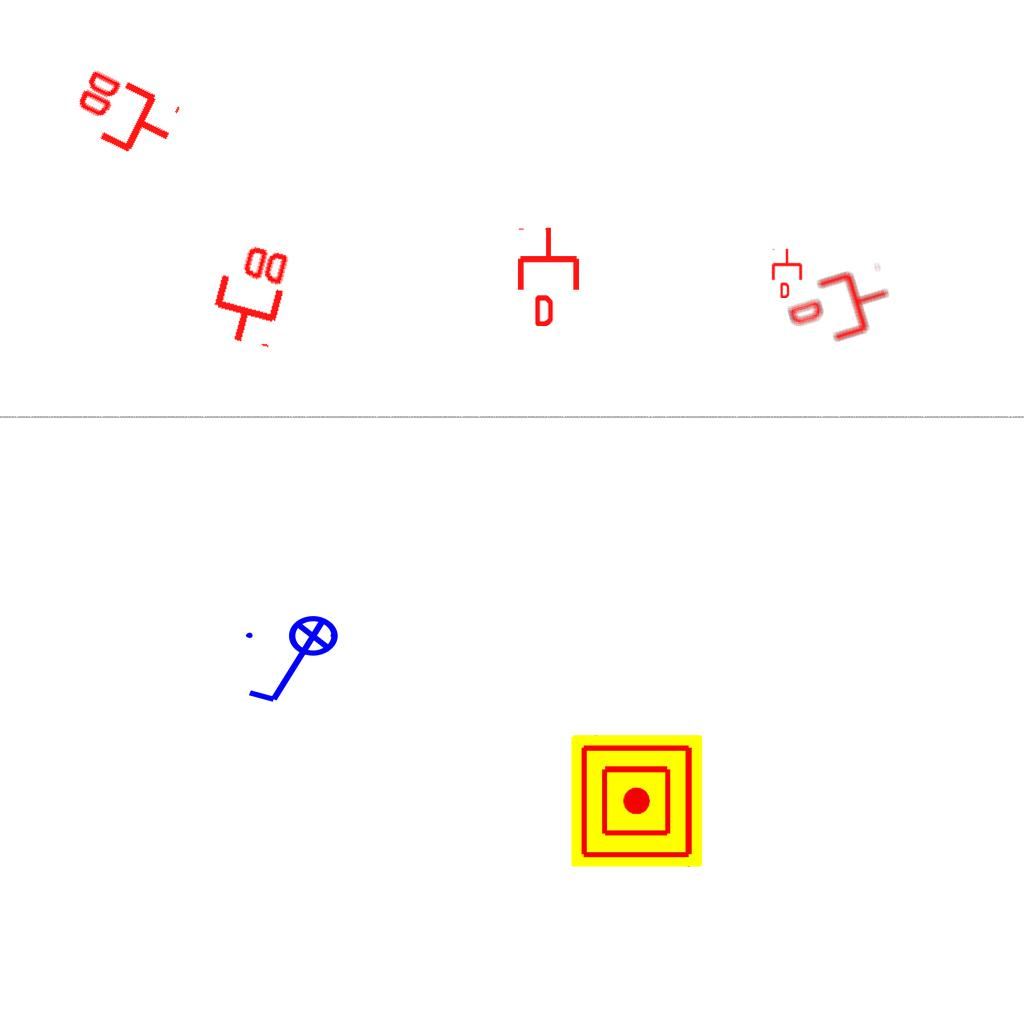Ausschalter_beleuchtet: (240, 614, 352, 710)
Datenanschluss_einfach: (782, 259, 899, 355), (514, 226, 583, 326), (770, 248, 804, 298)
Datenanschluss_zweifach: (62, 62, 185, 171), (201, 234, 296, 353)
NAM-Nichtautomatischer_Melder: (571, 735, 703, 867)
